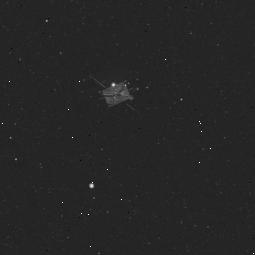smart_1: (81, 66, 148, 122)
